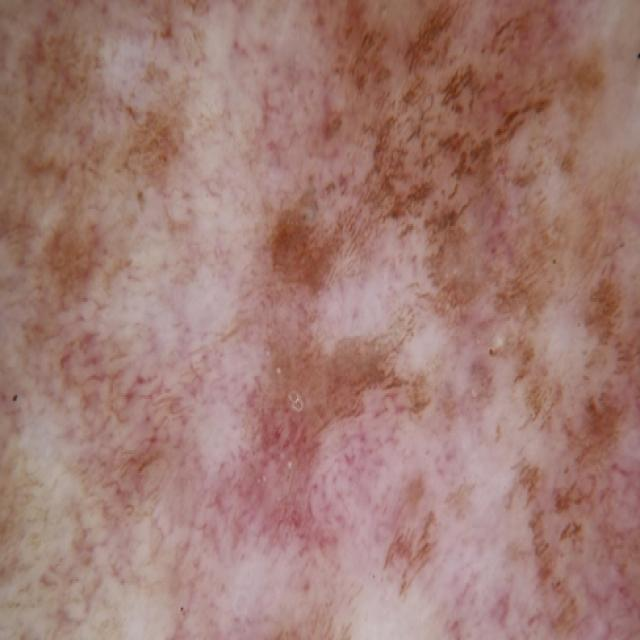Keratosis: (323, 48, 595, 406), (129, 440, 322, 640), (525, 494, 640, 640)
